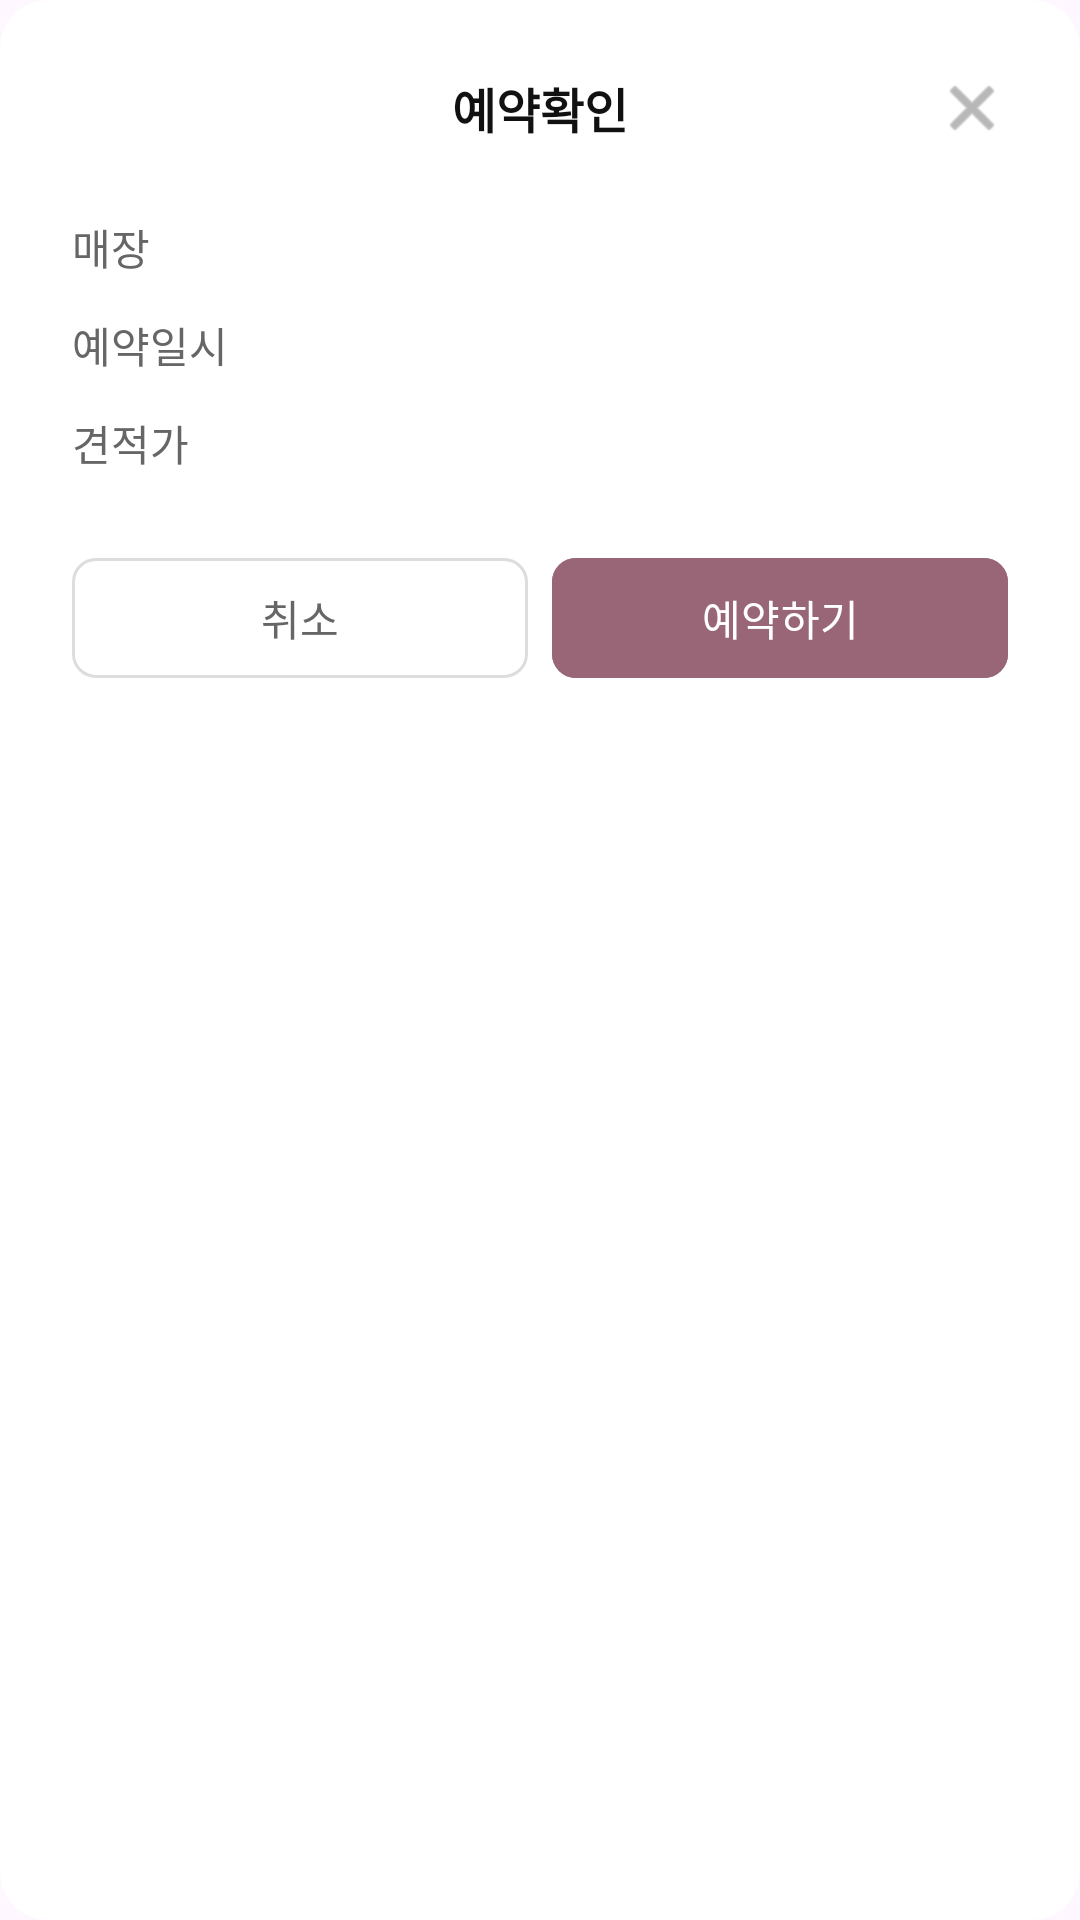

Named icons in this screenshot (1080 x 1920) and their bounding boxes, bbox=(x1, y1, x2, y2):
close clear cancel: bbox=(950, 86, 994, 130)
